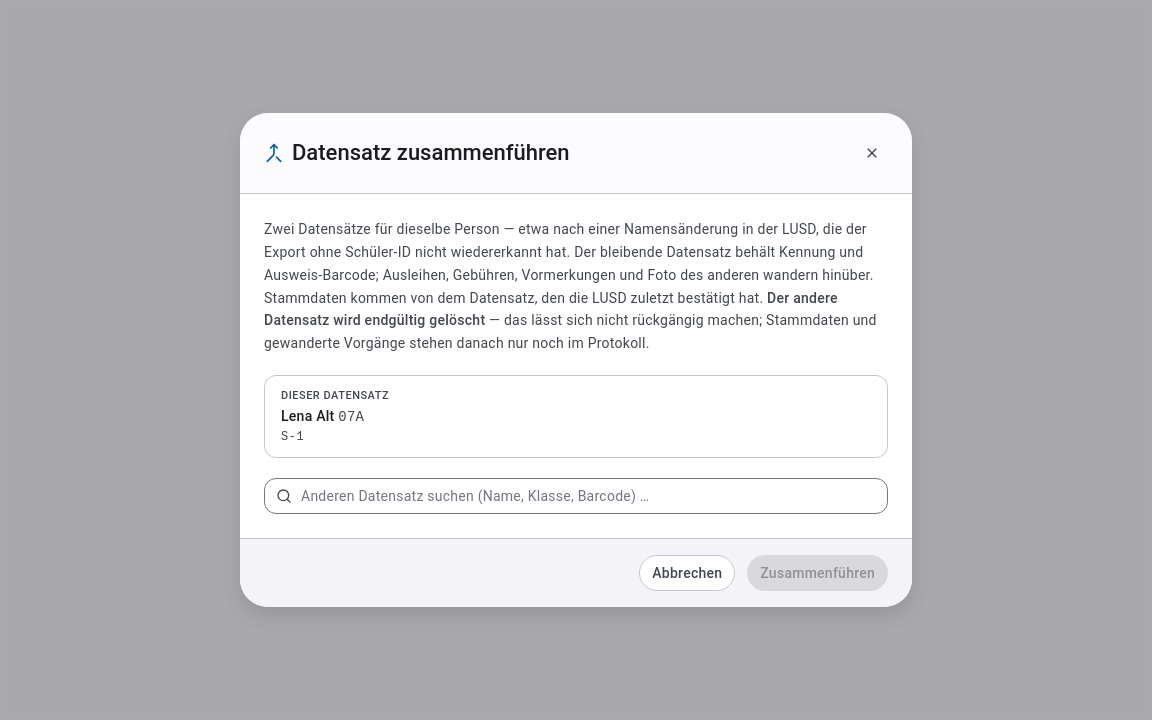
Test: SchuelerZusammenfuehrenDialog: Kandidatensuche › lässt eine späte Antwort auf die ältere Eingabe die Liste nicht mehr überschreiben
The width and height of the screenshot is (1152, 720).
Step 1. Type "Al" into the search field labelled "Anderen Datensatz suchen" → x=576, y=496, box [264,478,888,514]
Wait 250 ms
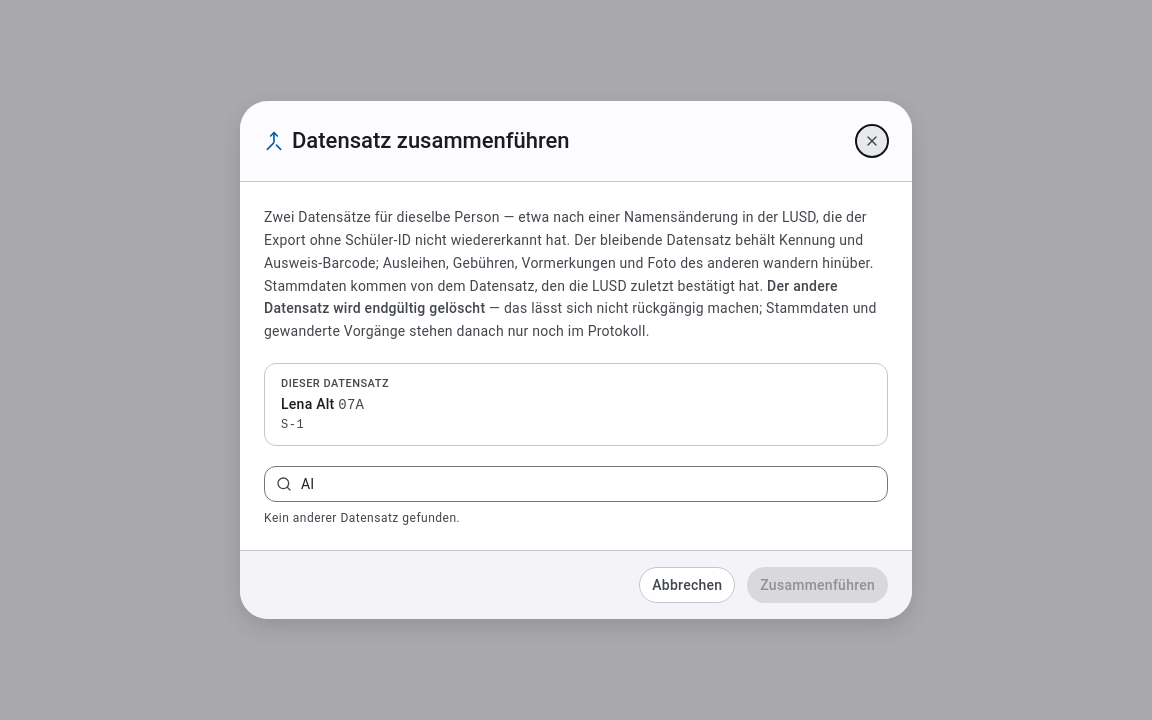
Step 2. Replace the text in the search field named "Anderen Datensatz suchen" with "Alt123" → x=576, y=484, box [264,466,888,502]
Wait 250 ms
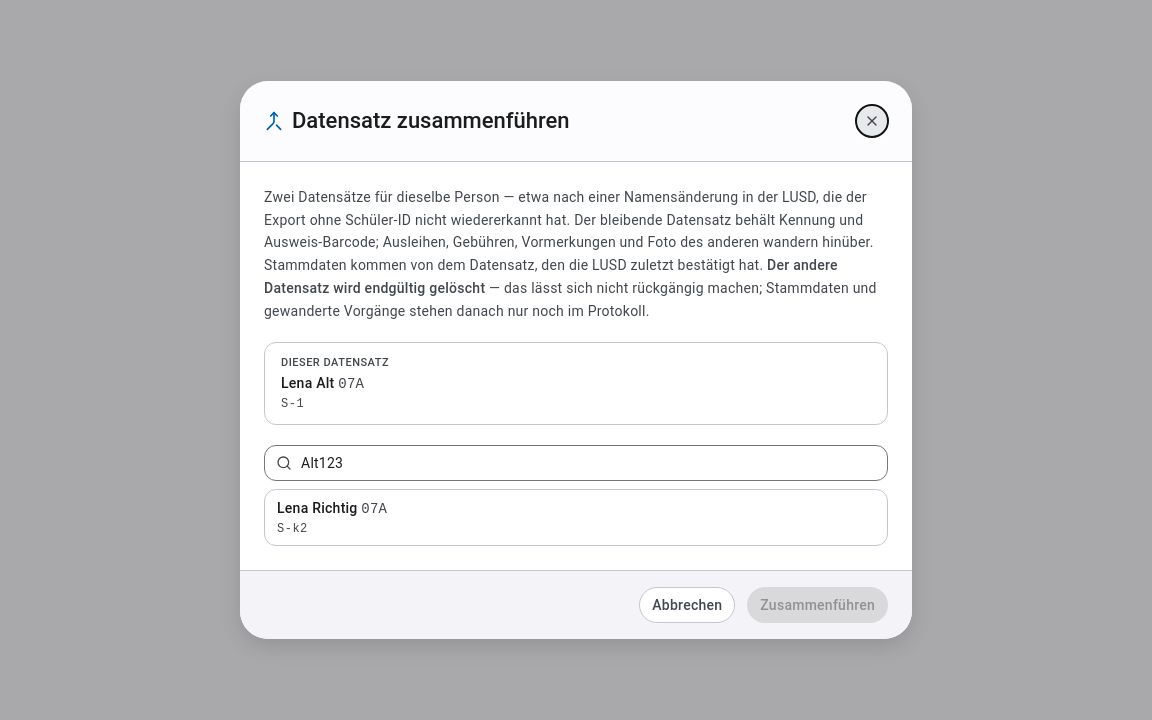
Check: the text "Lena Richtig 07A" is shown, box [277,498,387,519]
